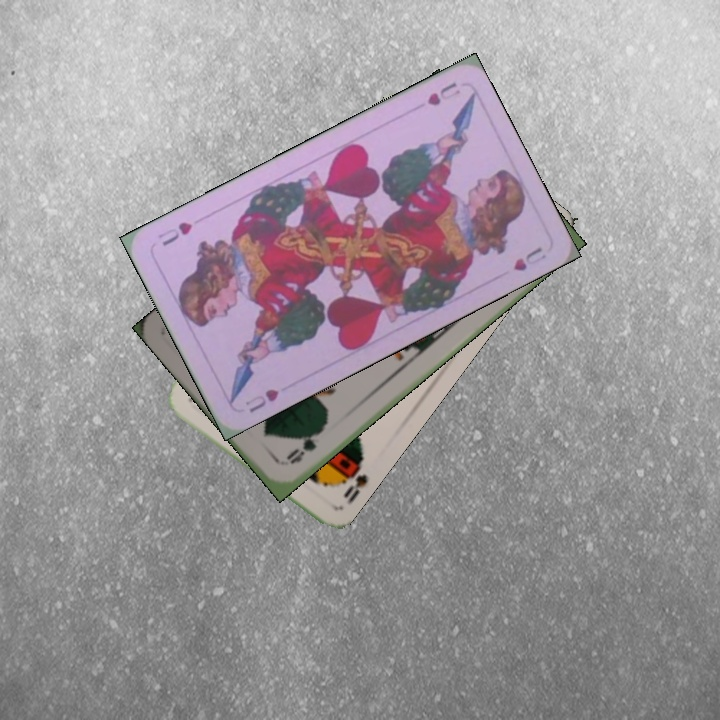GO: (282, 422, 327, 467)
HU: (241, 384, 282, 416), (423, 78, 463, 108)
SO: (337, 451, 371, 508)
